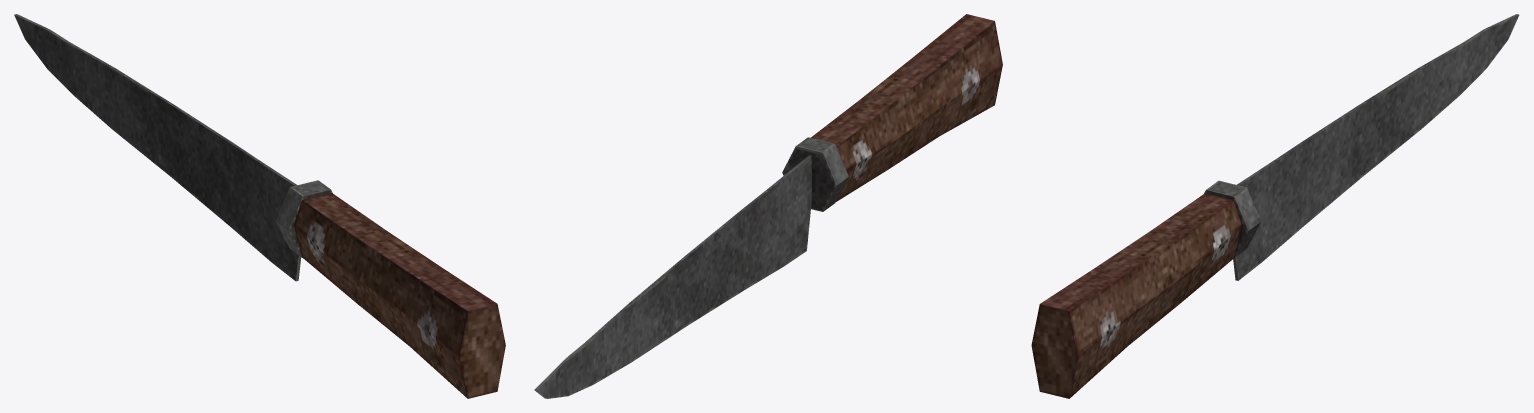
File: knife-4.glb
3 views of the same model, side by side, from view 1: azimuth 30°, elevation 25°; view 2: azimuth 150°, elevation 25°; view 3: azimuth 330°, elevation 25° (orthographic). The views are drawn at different scales.
Parts seen in each view (by area): view 1: Knife_4; view 2: Knife_4; view 3: Knife_4.
Part boxes in pixels (bbox=[...]): Knife_4: bbox=[14, 14, 505, 398]; Knife_4: bbox=[534, 14, 1002, 398]; Knife_4: bbox=[1031, 14, 1519, 398].
Size of the model in its own units: 0.2549 by 0.4632 by 3.62.
1 material, 1 textured.
